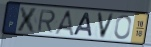A: (53, 9, 76, 37), (72, 11, 93, 38)
O: (113, 14, 132, 41)
R: (36, 9, 57, 34)
V: (96, 12, 116, 41)
X: (15, 5, 40, 35)
